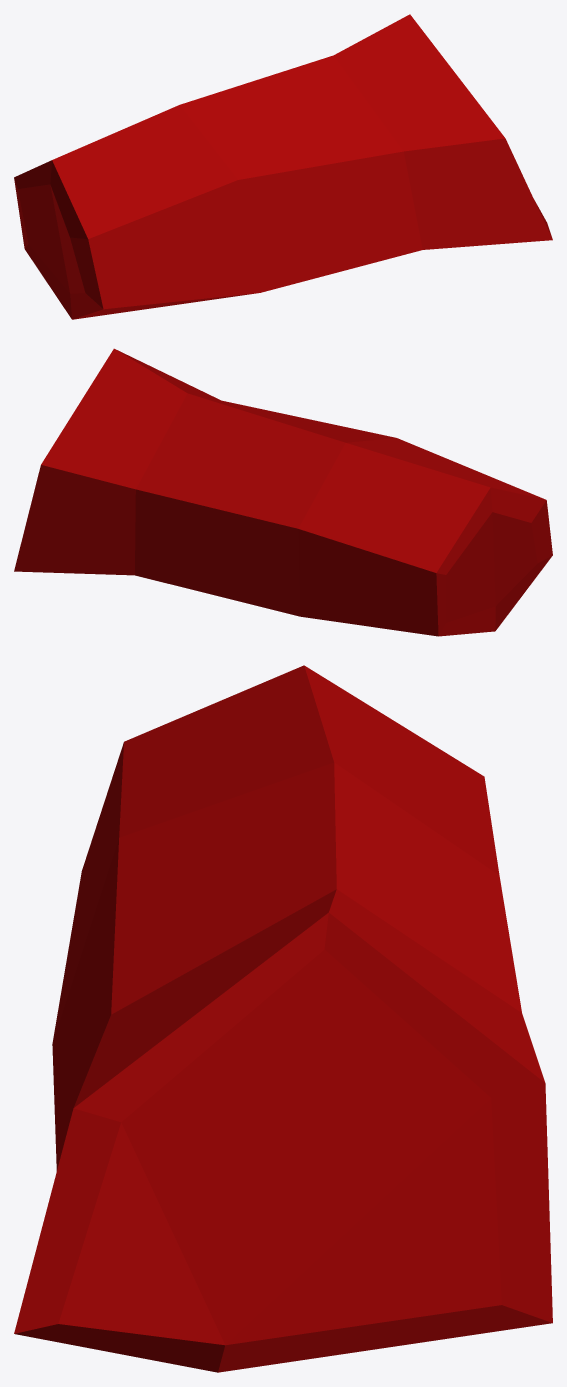
Rendered from Chr_ArmUpperRight_Male_Static_19.fbx.
The picture shows the model from 3 angles, top to bottom: view 1: azimuth 30°, elevation 25°; view 2: azimuth 150°, elevation 25°; view 3: azimuth 270°, elevation 25°; orthographic projection. The views are drawn at different scales.
Visible parts, largest first — view 1: Chr_ArmUpperRight_Male_19; view 2: Chr_ArmUpperRight_Male_19; view 3: Chr_ArmUpperRight_Male_19.
Boxes of the visible parts, x1,y1,x2,y2 form: Chr_ArmUpperRight_Male_19: [14, 14, 552, 319]; Chr_ArmUpperRight_Male_19: [14, 348, 552, 636]; Chr_ArmUpperRight_Male_19: [14, 665, 552, 1372].
Bounding box in the file's own units: 32.55 × 14.91 × 17.36.
